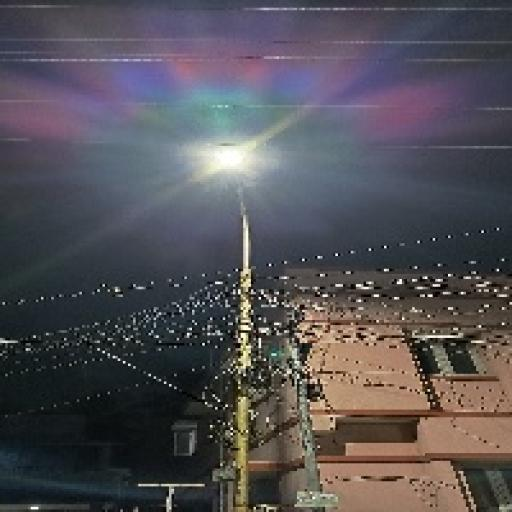Working: (184, 138, 278, 192)
